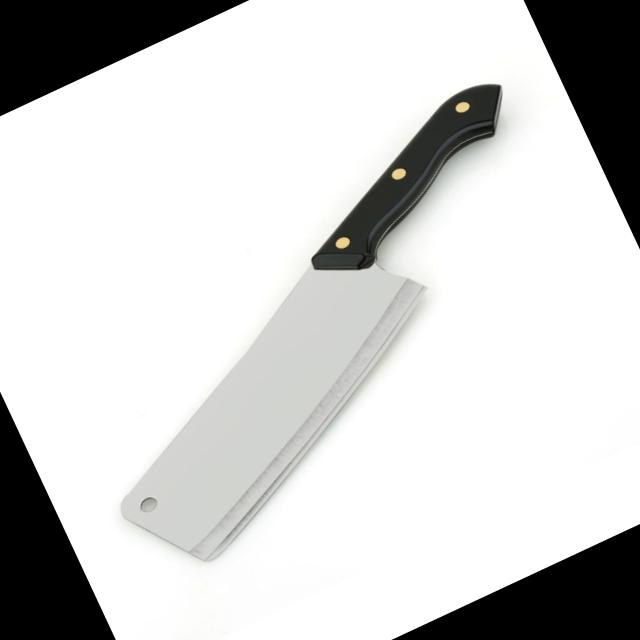Weapon: (14, 62, 640, 593)
